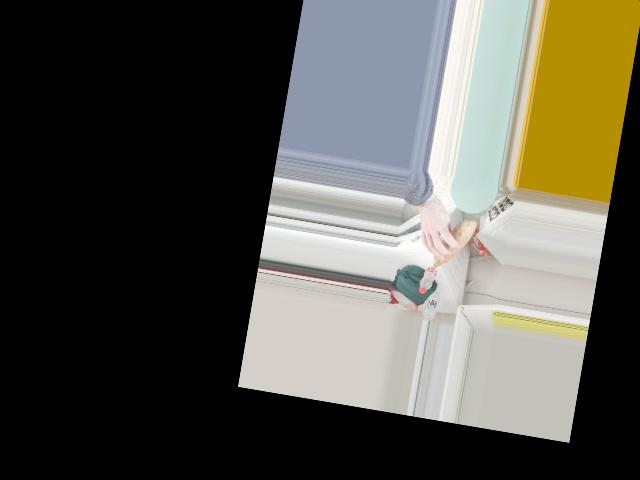sweet_potato: (425, 221, 475, 271)
